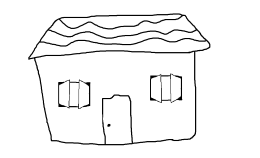door: (98, 92, 137, 147)
open_window: (58, 79, 91, 110), (150, 73, 182, 104)
roof: (27, 13, 211, 58)
wall: (33, 48, 200, 148)
